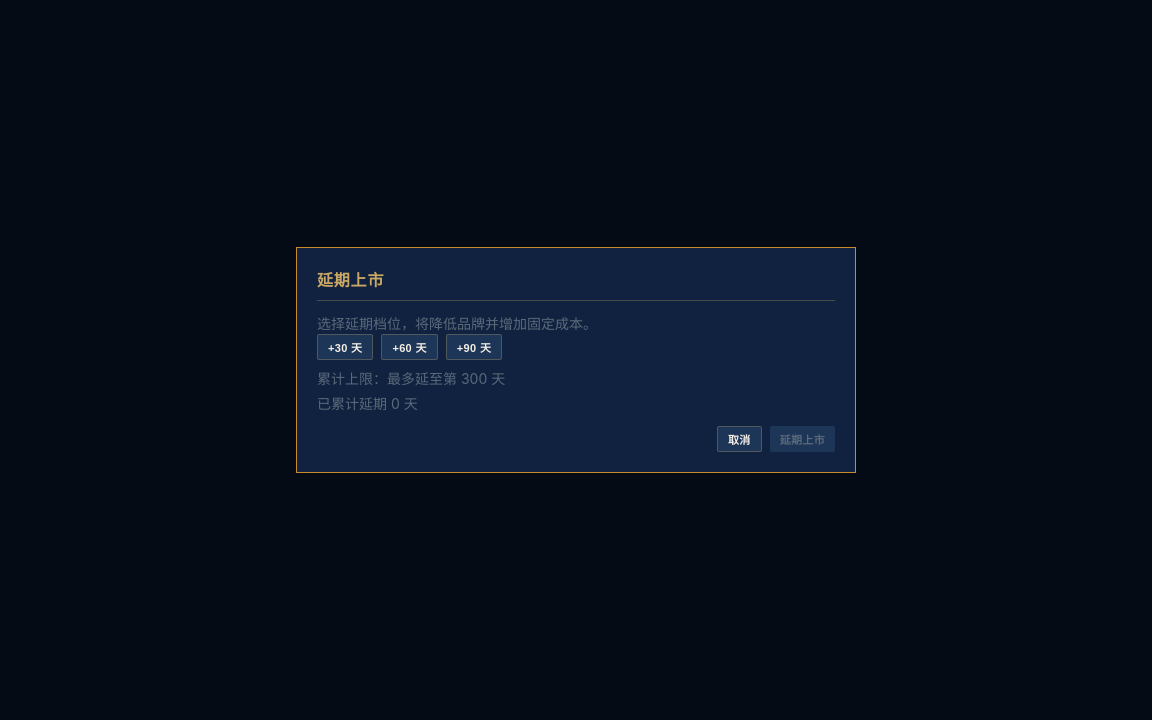
Test: DIALOG-DELAY（DESIGN-C-02 §3 / V23~V24） › 延期后现金可能为负：使用负数样式
Click the button "+30 天": (345, 347) [317, 334, 373, 360]
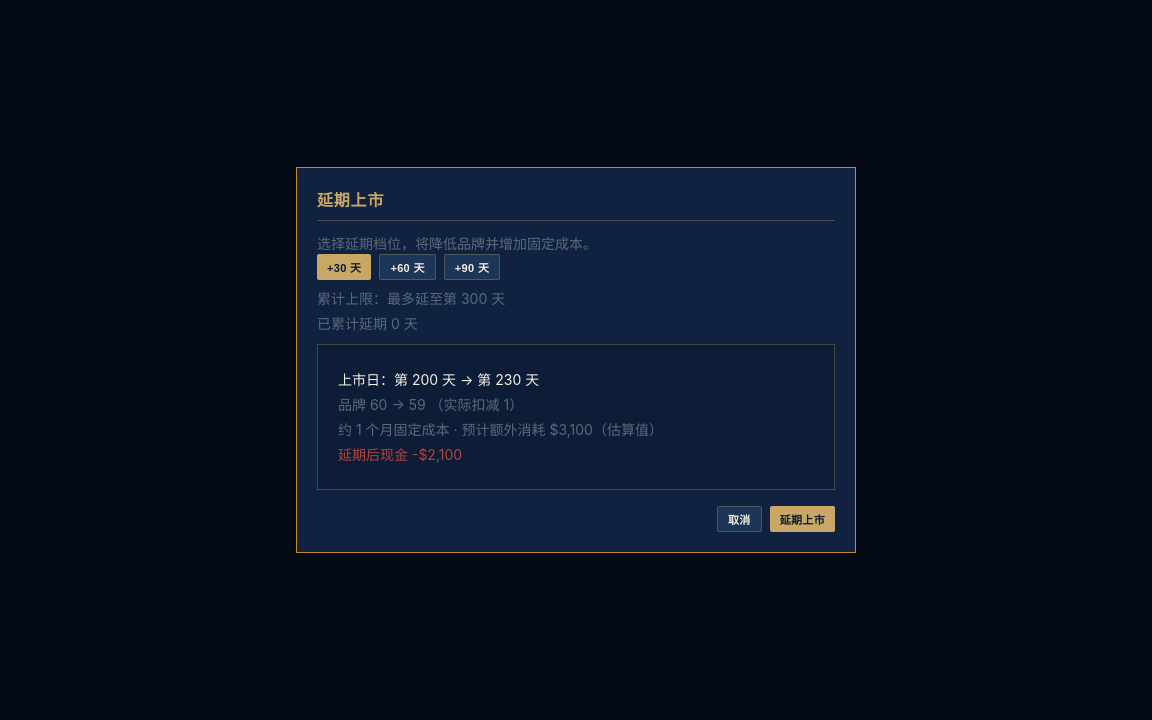
expect the text "延期后现金 -$2,100" is shown: met, box [338, 446, 462, 463]
